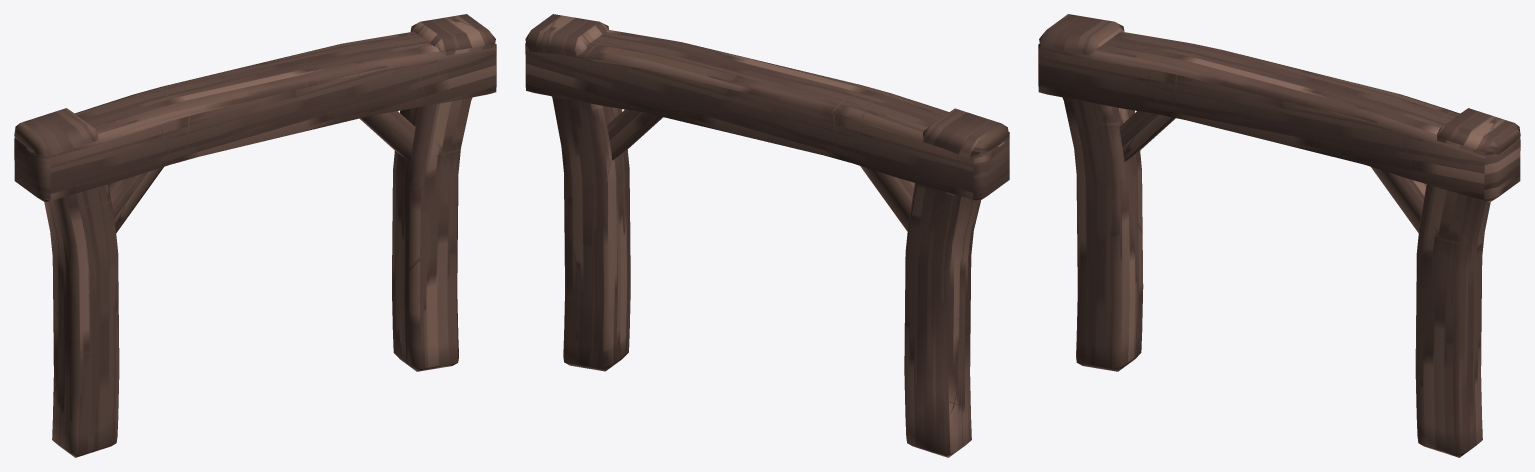
The model's file is SM_wood_entrance.glb.
The picture shows the model from 3 angles, left to right: view 1: azimuth 30°, elevation 25°; view 2: azimuth 150°, elevation 25°; view 3: azimuth 330°, elevation 25°; orthographic projection.
Parts seen in each view (by area): view 1: SM_wood_entrance; view 2: SM_wood_entrance; view 3: SM_wood_entrance.
Part boxes in pixels (x1,y1,x2,y2): SM_wood_entrance: (14, 14, 496, 457); SM_wood_entrance: (525, 14, 1009, 457); SM_wood_entrance: (1038, 14, 1520, 457).
Size of the model in its own units: 7.36 by 5.06 by 1.02.
1 material, 1 textured.
